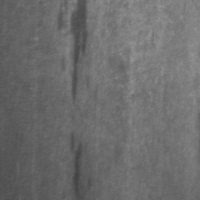inclusion: (61, 1, 94, 109), (63, 129, 88, 199)
